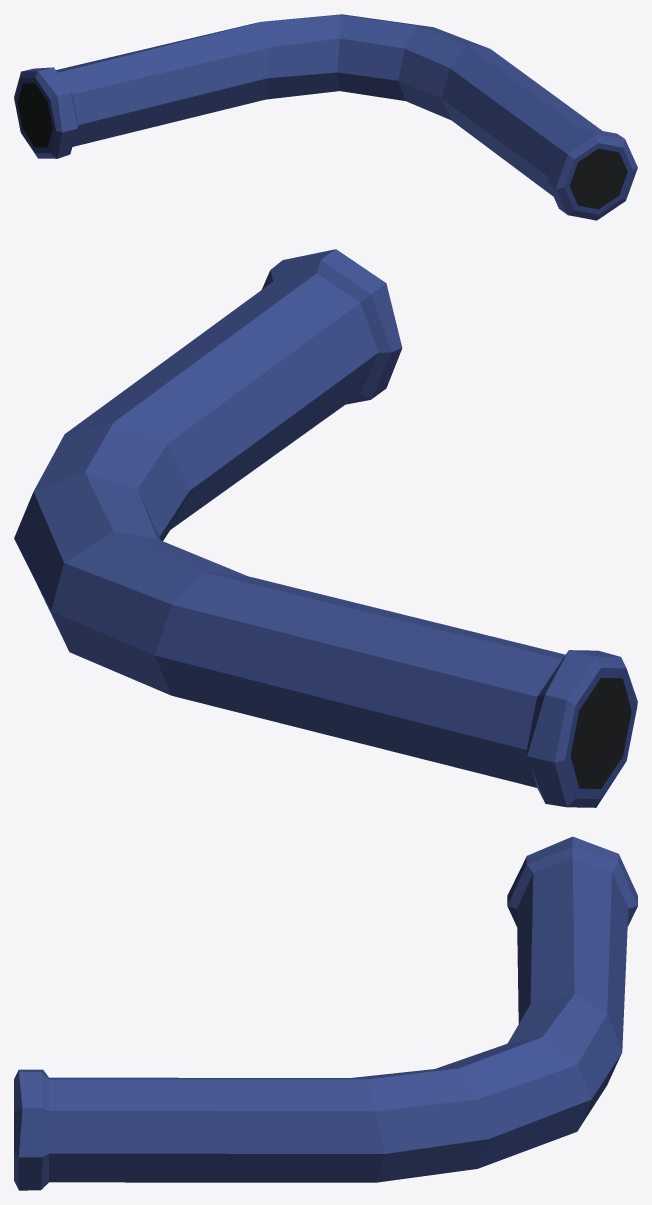
File: SM_Prop_Pipe_Curve_02.fbx
3 views of the same model, one above another, from view 1: azimuth 30°, elevation 25°; view 2: azimuth 150°, elevation 25°; view 3: azimuth 270°, elevation 25° (orthographic). The views are drawn at different scales.
Parts seen in each view (by area): view 1: SM_Prop_Pipe_Curve_02; view 2: SM_Prop_Pipe_Curve_02; view 3: SM_Prop_Pipe_Curve_02.
Boxes of the visible parts, x1,y1,x2,y2 form: SM_Prop_Pipe_Curve_02: (14, 14, 637, 220); SM_Prop_Pipe_Curve_02: (14, 249, 637, 807); SM_Prop_Pipe_Curve_02: (14, 836, 637, 1190).
Bounding box in the file's own units: 558 × 117 × 558.
